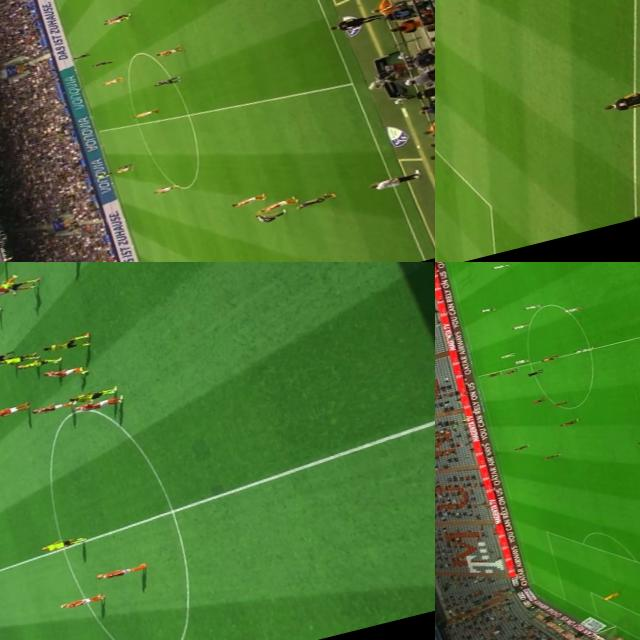ball: (544, 354, 553, 360)
player: (41, 358, 92, 387), (55, 589, 107, 615), (39, 331, 93, 356), (289, 188, 335, 214), (92, 562, 146, 584), (64, 384, 118, 405), (12, 351, 63, 372), (0, 344, 44, 368), (71, 394, 121, 414), (42, 531, 86, 553), (254, 192, 296, 214), (29, 397, 72, 417), (249, 206, 289, 227), (226, 190, 268, 208), (0, 273, 27, 296), (0, 399, 31, 418), (1, 275, 34, 292), (148, 180, 180, 196), (150, 74, 180, 88), (98, 74, 125, 89), (130, 106, 157, 120), (30, 262, 84, 269), (154, 45, 183, 58), (68, 48, 93, 62), (599, 588, 624, 602), (100, 14, 126, 26), (90, 56, 112, 70), (556, 416, 580, 427), (103, 11, 129, 21), (112, 165, 134, 175), (540, 451, 562, 461), (572, 344, 594, 354), (550, 398, 571, 408), (510, 320, 531, 330), (511, 442, 530, 452), (528, 395, 547, 405), (486, 369, 503, 379), (115, 162, 135, 170), (522, 302, 542, 310), (540, 353, 558, 361), (563, 305, 581, 313), (512, 356, 530, 364), (491, 262, 508, 270), (503, 366, 519, 374), (479, 305, 495, 313), (498, 351, 516, 358)
